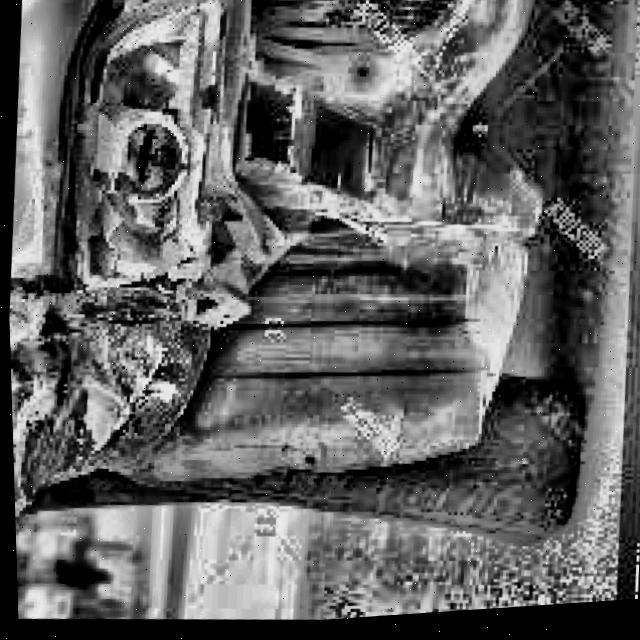head_lamp: (0, 0, 269, 494)
